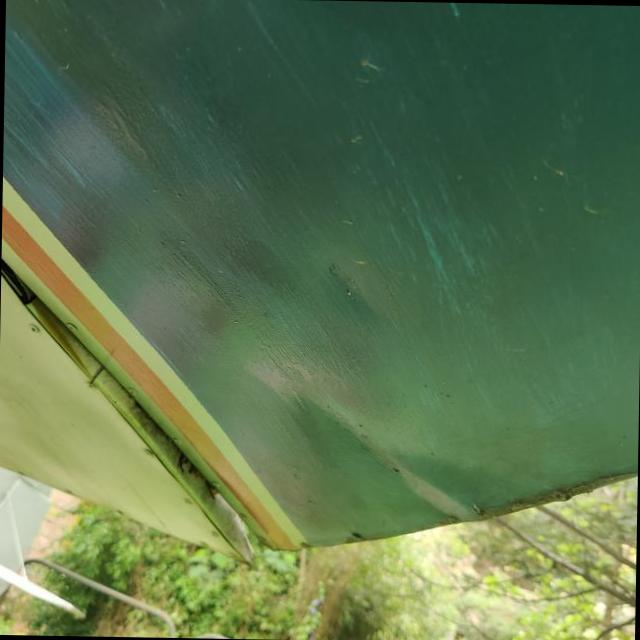Dent: (225, 345, 522, 545), (290, 218, 411, 350)
